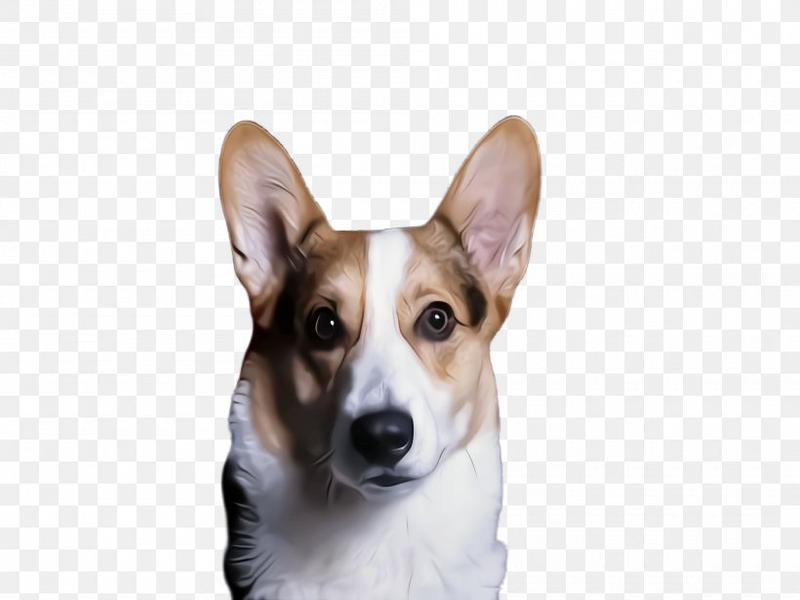corgi: (216, 119, 545, 495)
